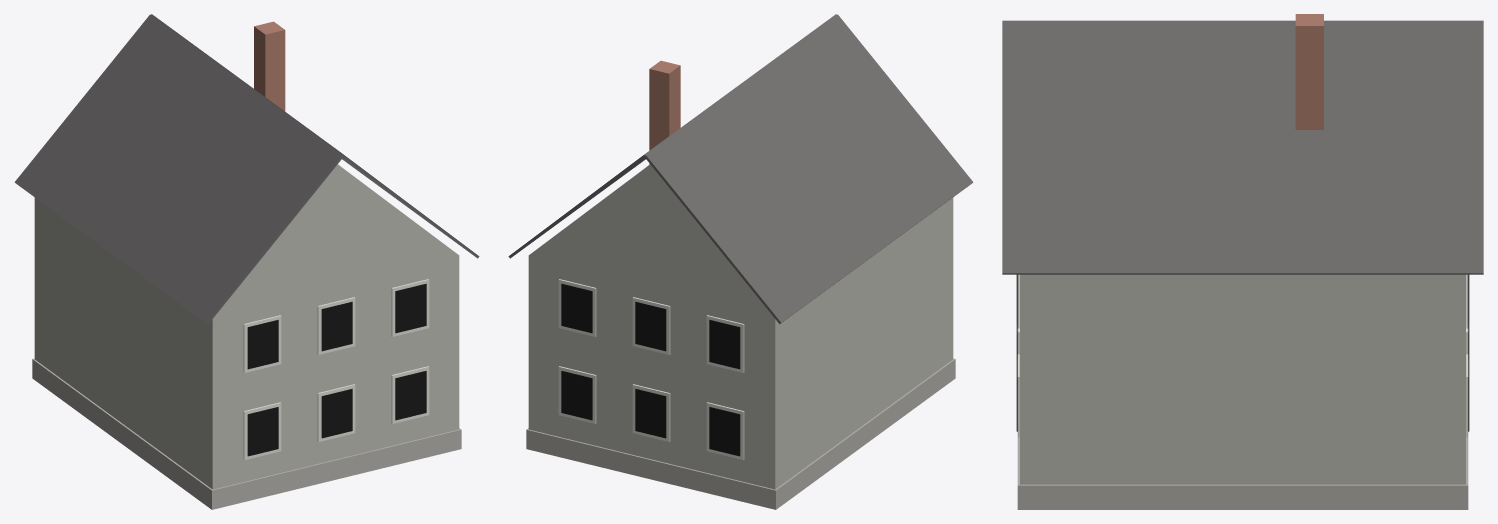
Rendered from house_c_far.glb.
The picture shows the model from 3 angles, left to right: view 1: azimuth 30°, elevation 25°; view 2: azimuth 150°, elevation 25°; view 3: azimuth 270°, elevation 25°; orthographic projection. The views are drawn at different scales.
Visible parts, largest first — view 1: HouseFar; view 2: HouseFar; view 3: HouseFar.
Boxes of the visible parts, left/top/right/bottom form: HouseFar: left=14, top=14, right=479, bottom=509; HouseFar: left=508, top=14, right=973, bottom=509; HouseFar: left=1002, top=14, right=1483, bottom=509.
Size of the model in its own units: 8.86 by 10.98 by 10.8.
